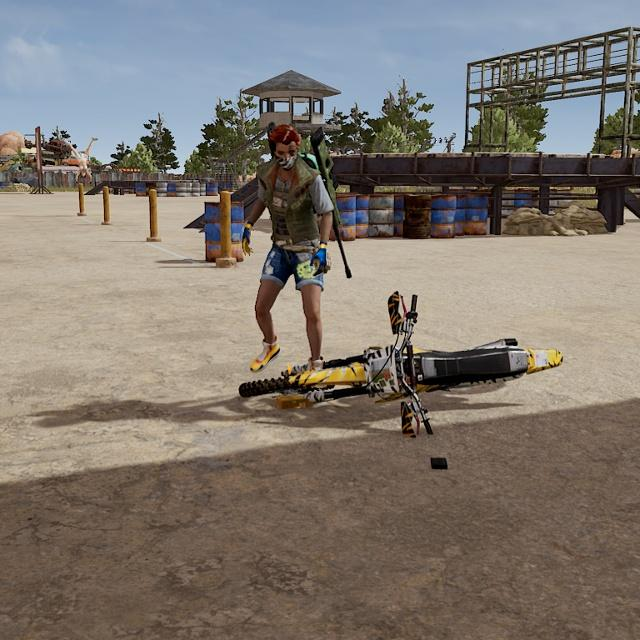head: (263, 119, 308, 173)
people: (237, 115, 345, 384)
